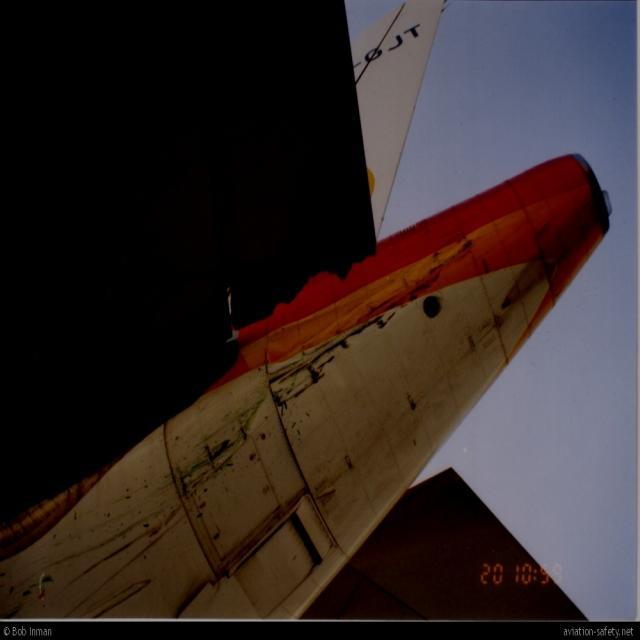crack: (209, 248, 385, 359)
